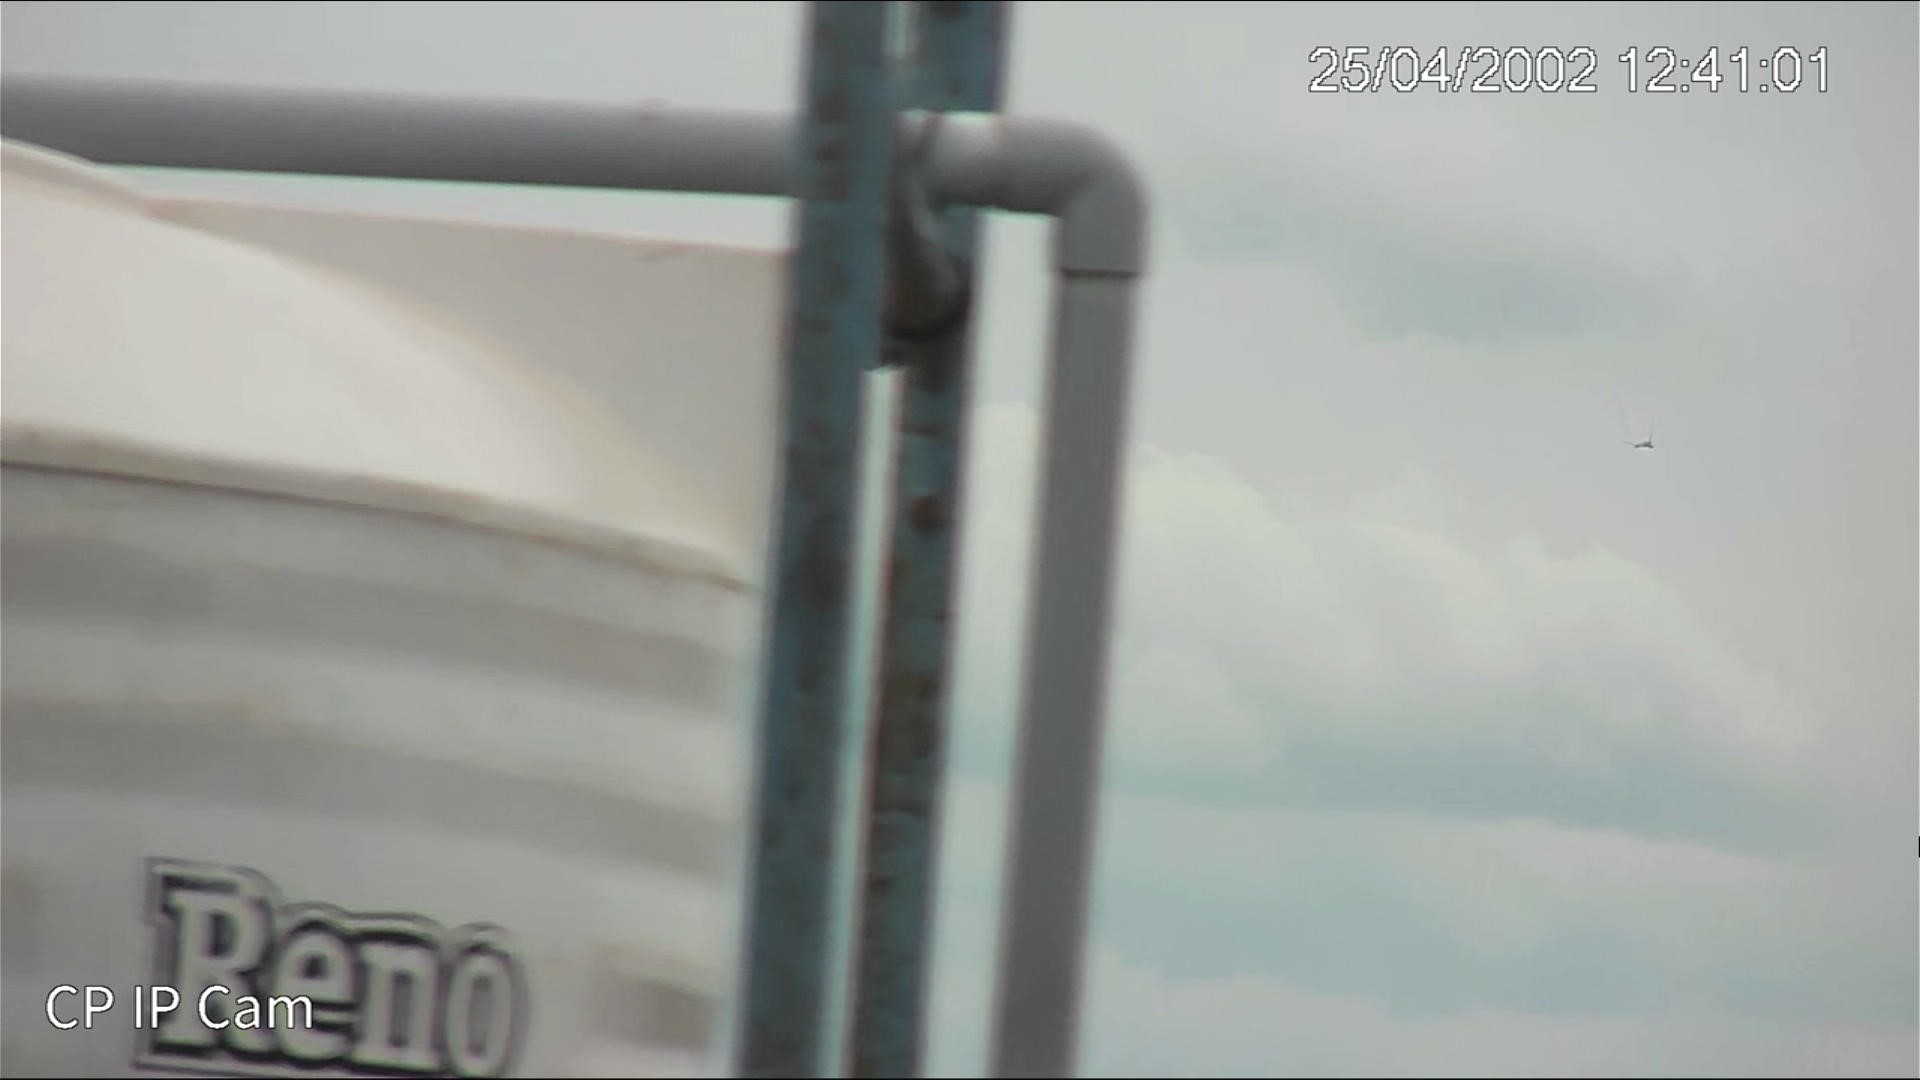SU_30: (1629, 438, 1654, 454)
